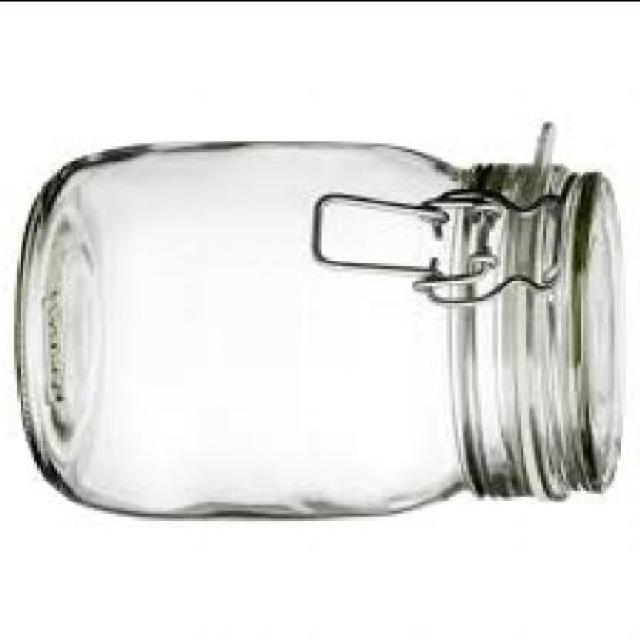GLASS: (20, 139, 626, 521)
